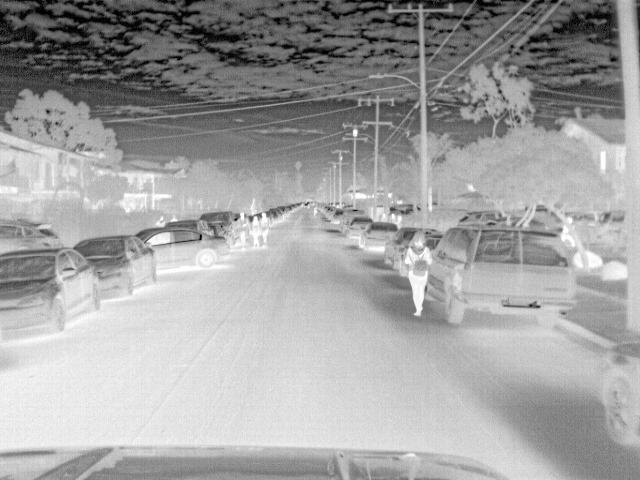car: (424, 225, 581, 329), (0, 245, 103, 342), (70, 236, 156, 296), (596, 343, 638, 447), (129, 226, 230, 269), (0, 218, 64, 258), (383, 226, 418, 268), (360, 222, 398, 250), (198, 211, 235, 236), (164, 218, 213, 236), (458, 208, 500, 227), (347, 215, 375, 240), (329, 207, 346, 224), (262, 210, 280, 221)
person: (402, 228, 433, 318), (235, 210, 251, 249), (257, 210, 272, 248), (246, 212, 262, 247), (388, 209, 397, 227), (394, 214, 403, 230), (378, 211, 390, 222)
